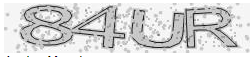4: (72, 5, 127, 51)
8: (18, 3, 73, 49)
R: (185, 6, 238, 50)
U: (129, 8, 186, 50)
